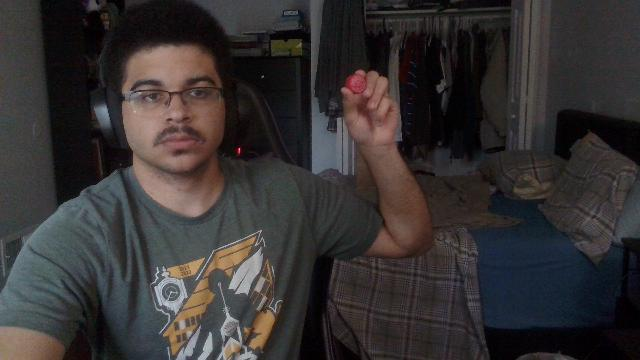cap: (346, 74, 366, 94)
